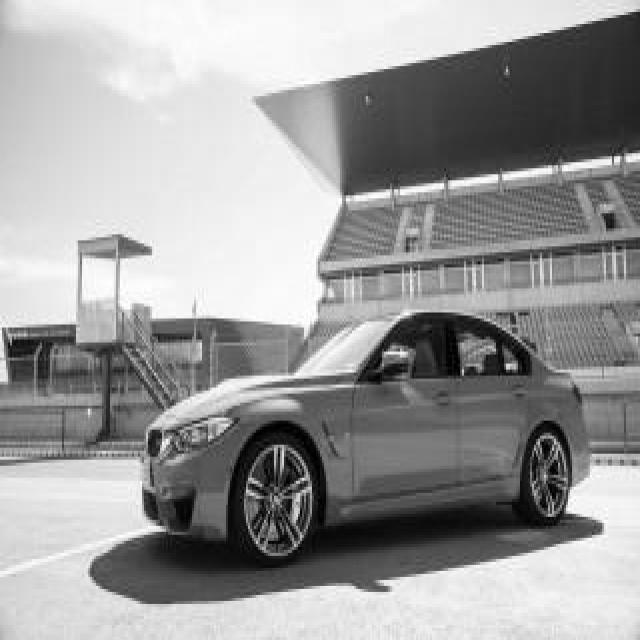Car: (142, 312, 589, 562)
